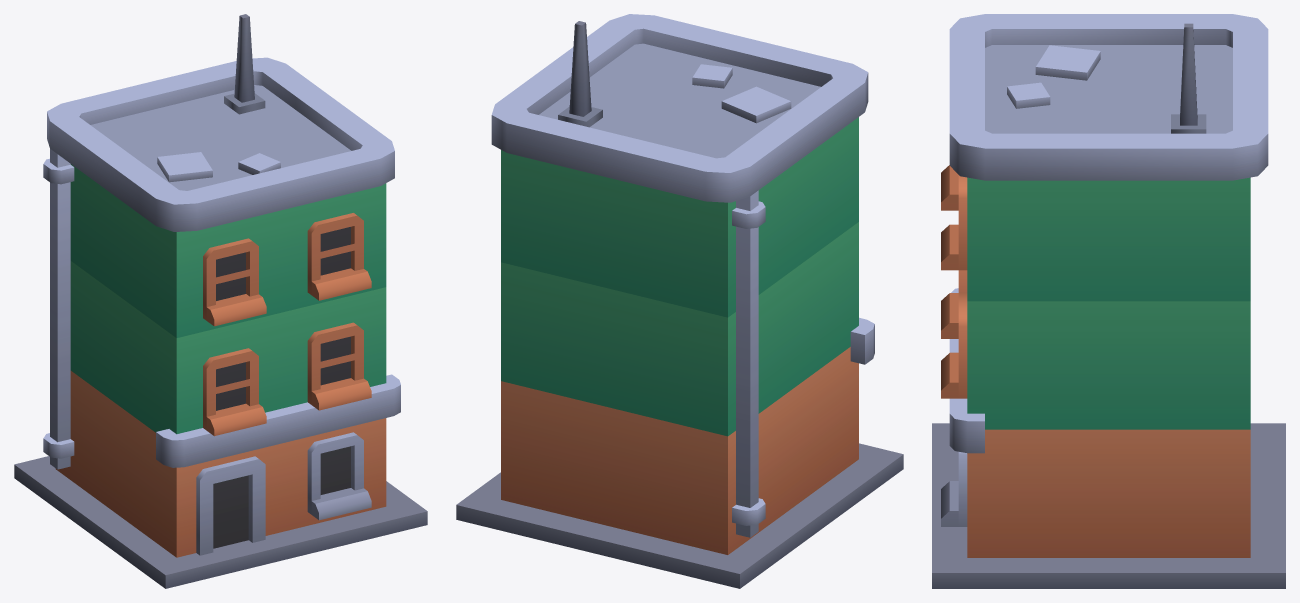
Rendered from ke_building-small-b.glb.
3 views of the same model, side by side, from view 1: azimuth 30°, elevation 25°; view 2: azimuth 150°, elevation 25°; view 3: azimuth 270°, elevation 25° (orthographic). The views are drawn at different scales.
Parts seen in each view (by area): view 1: building-small-b; view 2: building-small-b; view 3: building-small-b.
Boxes of the visible parts, <box> form: building-small-b: <box>14,14,427,588</box>; building-small-b: <box>456,14,903,588</box>; building-small-b: <box>932,14,1285,588</box>.
Bounding box in the file's own units: 1 × 1.63 × 1.
1 material, 1 textured.
